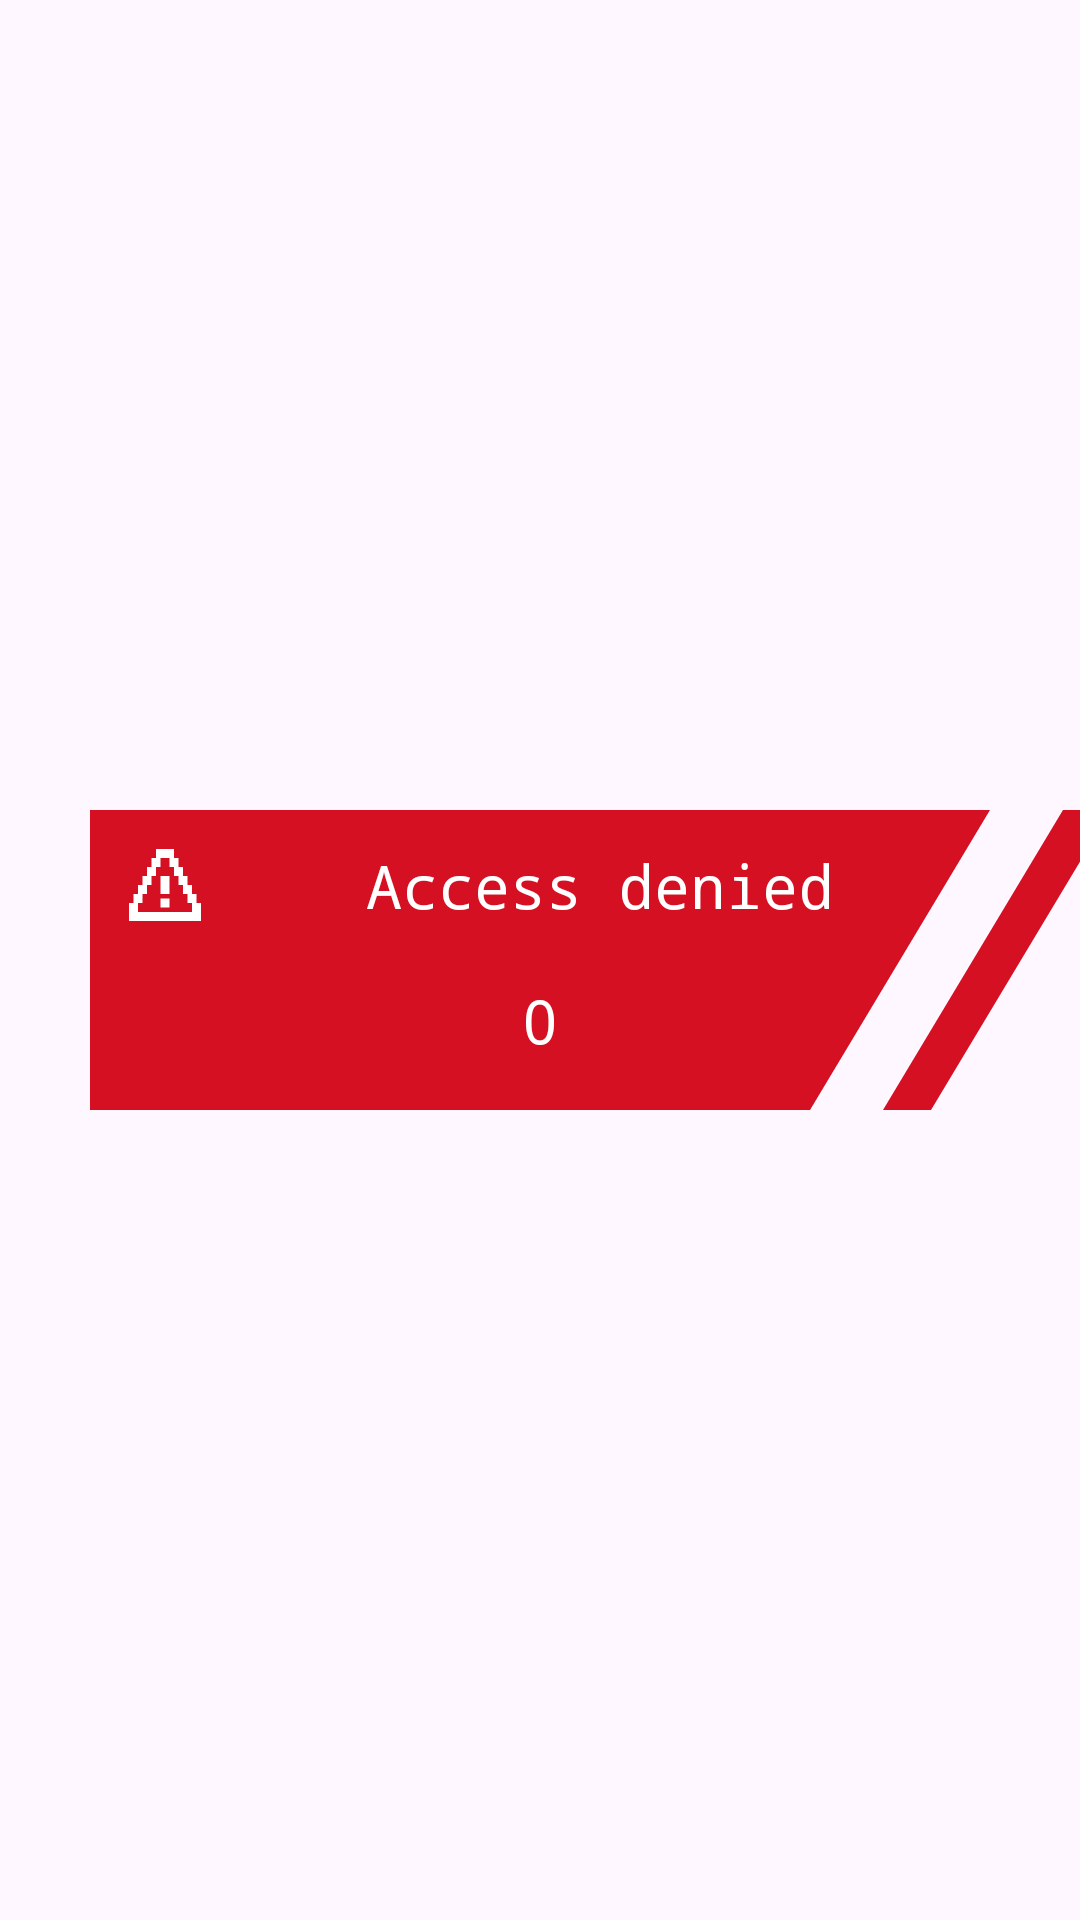

Icon click points for this 1080px×1920px phone screenshot, format point (x, y):
warning: point (165, 885)
